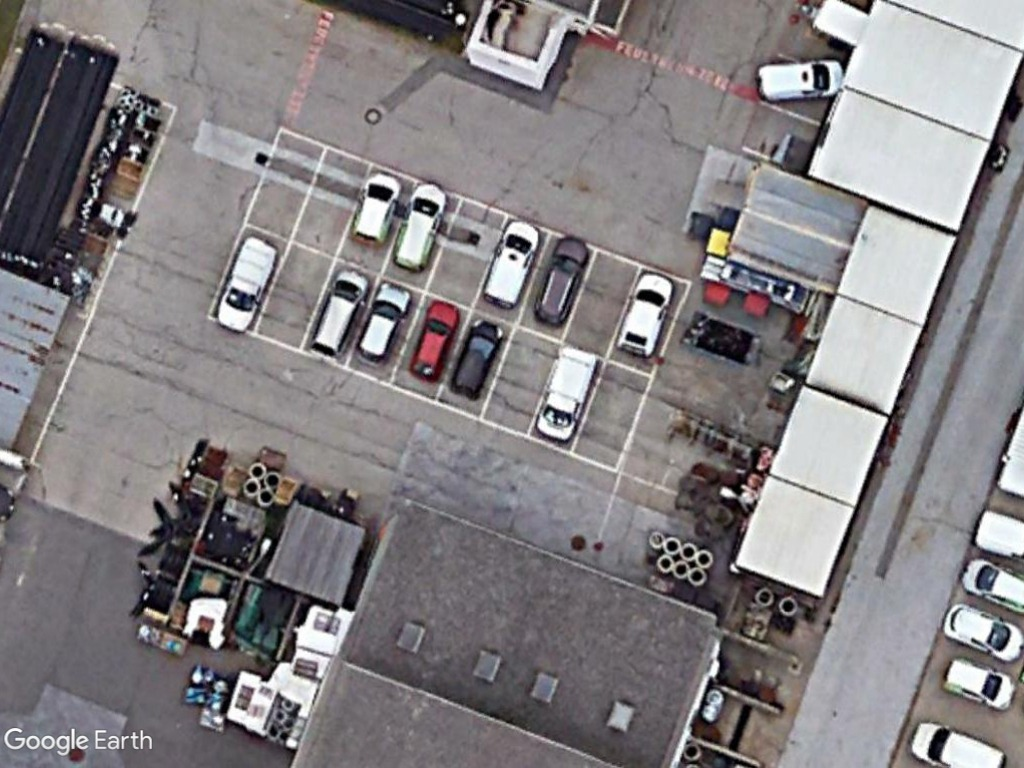car: (304, 266, 370, 361), (389, 177, 450, 275), (532, 231, 592, 329), (612, 267, 676, 358), (941, 598, 1024, 664), (353, 278, 412, 365), (751, 56, 849, 108), (448, 314, 507, 399), (939, 650, 1017, 712), (406, 297, 463, 381), (352, 166, 399, 243), (964, 556, 1024, 615)
van: (533, 345, 601, 444), (214, 233, 277, 338), (476, 215, 540, 312), (910, 719, 1008, 768)
